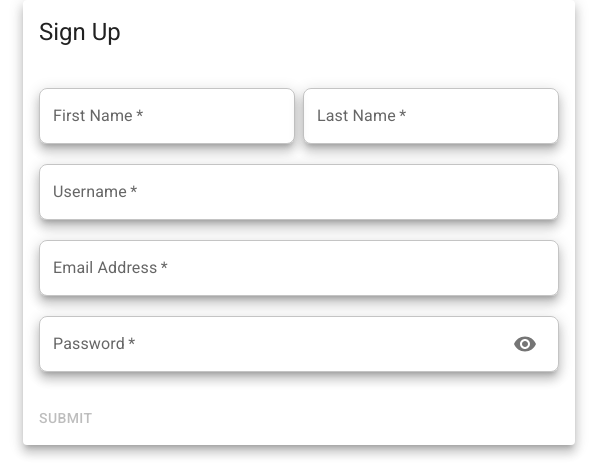
it: sign up › should disable the submit button when the last name field is emptied
This screenshot has width=599, height=475.
In the field labelled "First Name": (167, 116) [39,88,295,144], type "Joe"
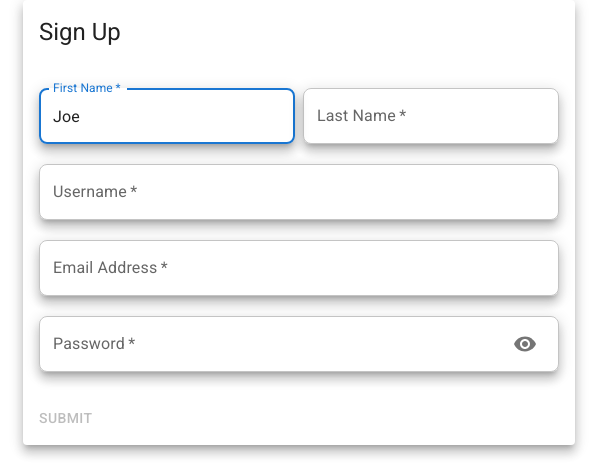
In the field labelled "Last Name": (431, 116) [303,88,559,144], type "Bloggs"
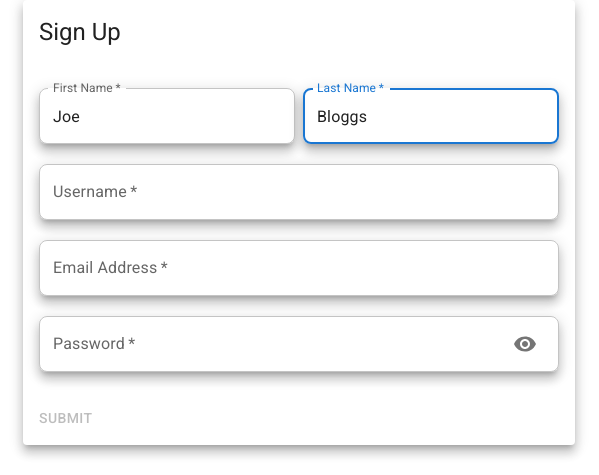
In the field labelled "Username": (299, 192) [39,164,559,220], type "jbloggs"
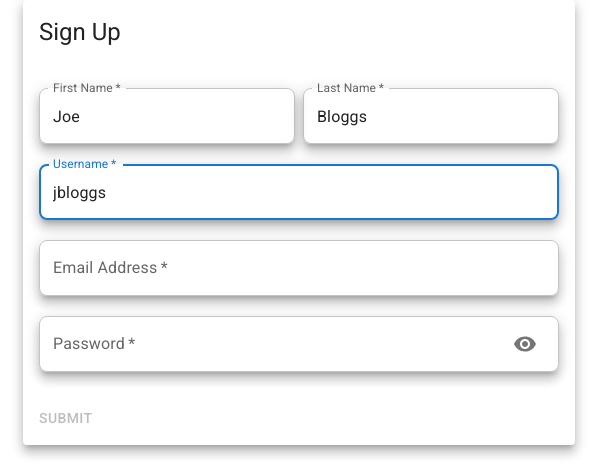
In the field labelled "Email Address": (299, 268) [39,240,559,296], type "jbloggs@email.com"
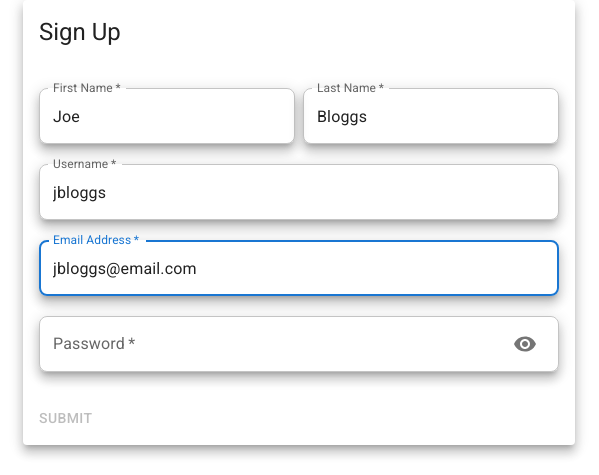
In the password field labelled "Password *": (268, 344) [39,316,497,372], type "SecretPassword"
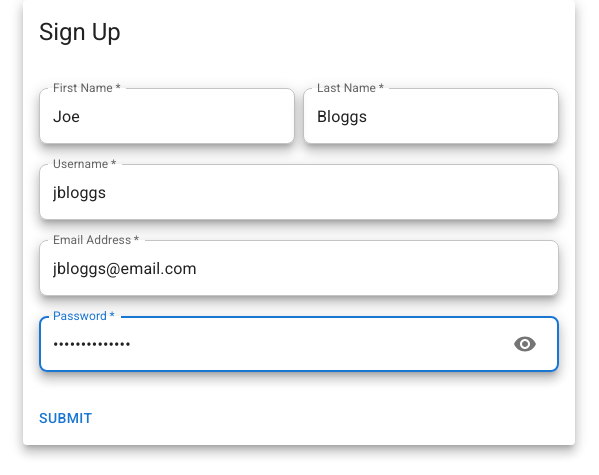
Clear the field labelled "Last Name": (431, 116) [303,88,559,144]
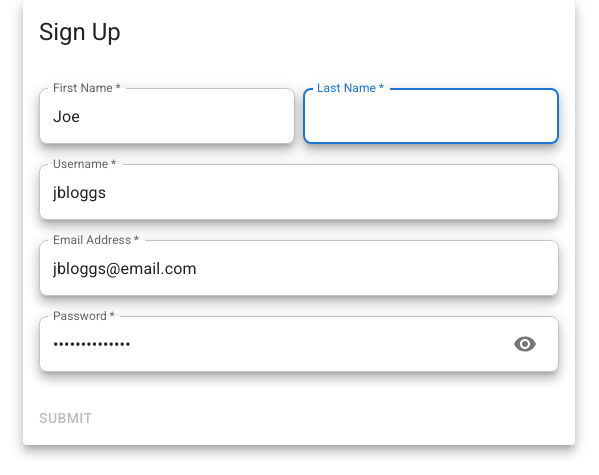
Result: the button "Submit" is disabled at [31,400,100,436]
